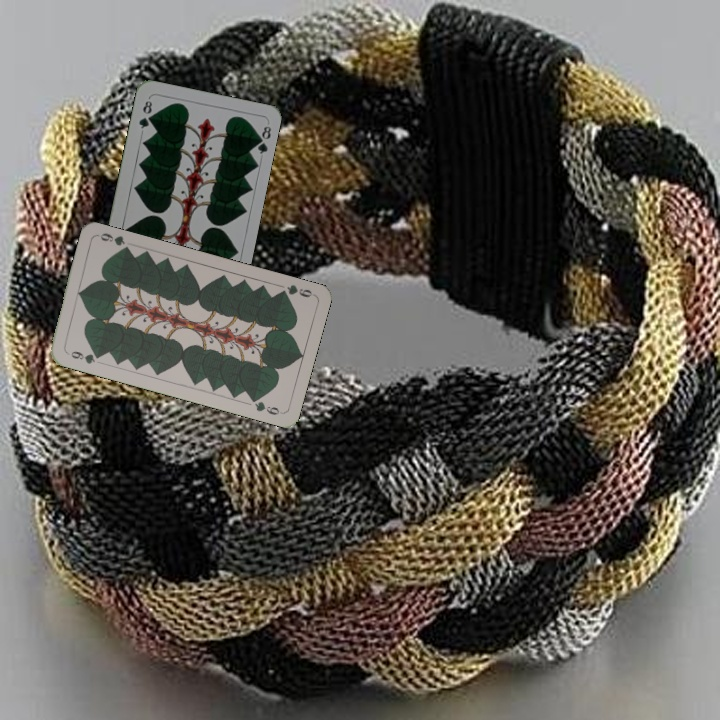G8: (135, 96, 155, 131)
G9: (275, 280, 316, 300), (62, 347, 103, 366)
